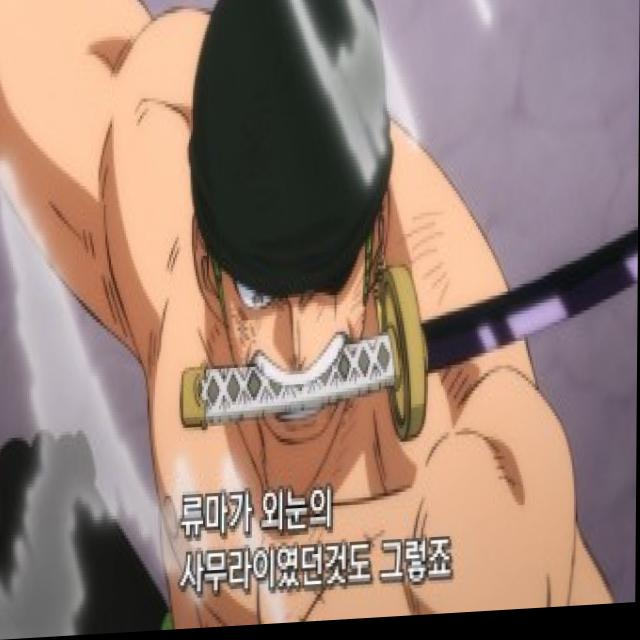Zoro: (150, 0, 442, 481)
